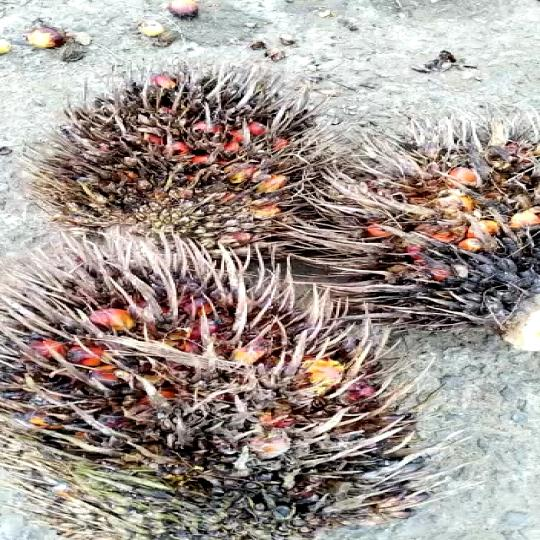terlalu masak: (0, 250, 396, 540), (56, 63, 322, 252), (306, 143, 540, 318)
